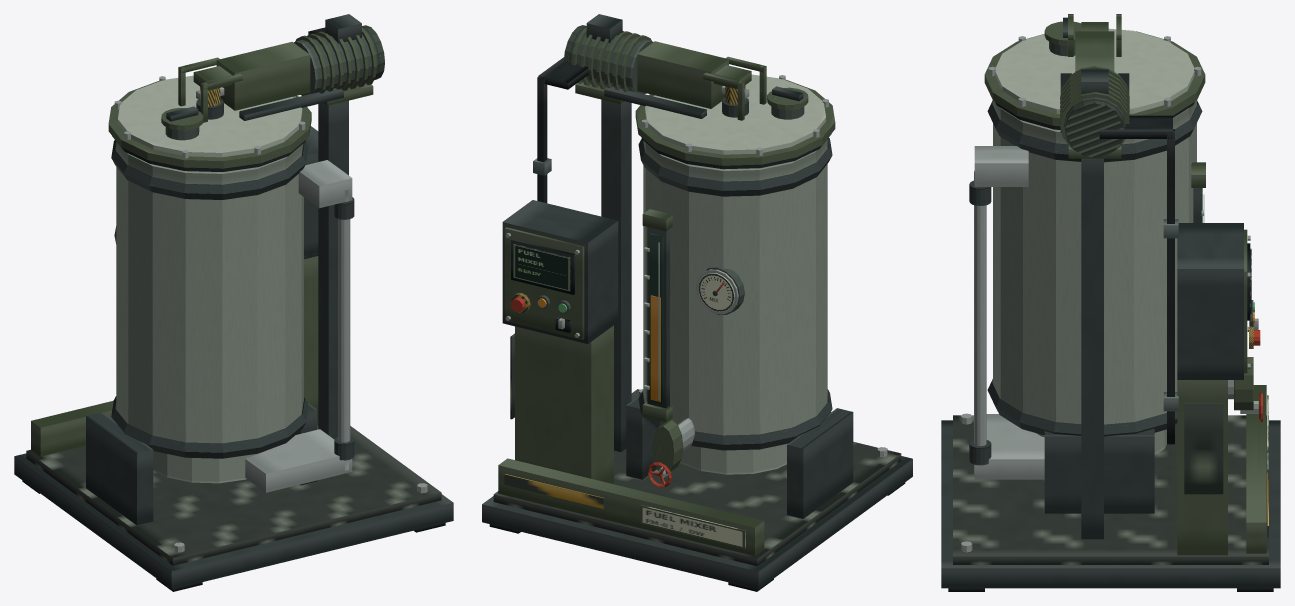
File: fm01_full.obj
3 views of the same model, side by side, from view 1: azimuth 30°, elevation 25°; view 2: azimuth 150°, elevation 25°; view 3: azimuth 270°, elevation 25° (orthographic). The views are drawn at different scales.
Visible parts, largest first — view 1: tank_main_shell, raised_deck, bottom_skid, raised_lid, motor_support, tank_leg_-6.5, drive_gearbox, rear_pipe_lower_link, tank_band_10.9, tank_band_4.45, lid_flange, rear_vertical_pipe (+9 smaller); view 2: tank_main_shell, control_pedestal, raised_deck, bottom_skid, raised_lid, front_apron, motor_support, control_housing, tank_leg_-6.5, drive_gearbox, control_face, tank_band_10.9 (+19 smaller); view 3: tank_main_shell, raised_deck, bottom_skid, control_housing, motor_support, raised_lid, tank_leg_2.4, control_pedestal, side_vent, rear_pipe_lower_link, front_apron, rear_vertical_pipe (+15 smaller).
Part boxes in pixels (x1,y1,x2,y2): tank_main_shell: (116,142,303,443); raised_deck: (26,421,441,565); bottom_skid: (14,453,453,589); raised_lid: (117,75,302,157); motor_support: (318,100,348,438); tank_leg_-6.5: (86,412,153,525); drive_gearbox: (216,42,310,110); rear_pipe_lower_link: (245,429,352,492); tank_band_10.9: (111,140,308,199); tank_band_4.45: (111,396,308,458); lid_flange: (108,81,311,168); rear_vertical_pipe: (338,189,350,470); tank_main_shell: (643,139,827,435); control_pedestal: (515,325,613,483); raised_deck: (493,389,901,566); bottom_skid: (482,456,912,589); raised_lid: (645,74,825,154); front_apron: (498,458,764,555); motor_support: (601,99,631,451); control_housing: (502,200,618,343); tank_leg_-6.5: (787,408,853,518); drive_gearbox: (637,41,728,108); control_face: (504,227,584,339); tank_band_10.9: (638,138,832,196); tank_main_shell: (993,100,1196,424); raised_deck: (953,415,1268,564); bottom_skid: (941,420,1280,588); control_housing: (1177,223,1243,379); motor_support: (1081,158,1103,539); raised_lid: (995,28,1194,113); tank_leg_2.4: (1044,428,1154,513); control_pedestal: (1177,380,1227,555); side_vent: (1184,403,1223,494); rear_pipe_lower_link: (974,414,1044,479); front_apron: (1246,385,1266,553); rear_vertical_pipe: (974,170,986,474).
Size of the model in its own units: 0.9562 by 1.5 by 0.925.
